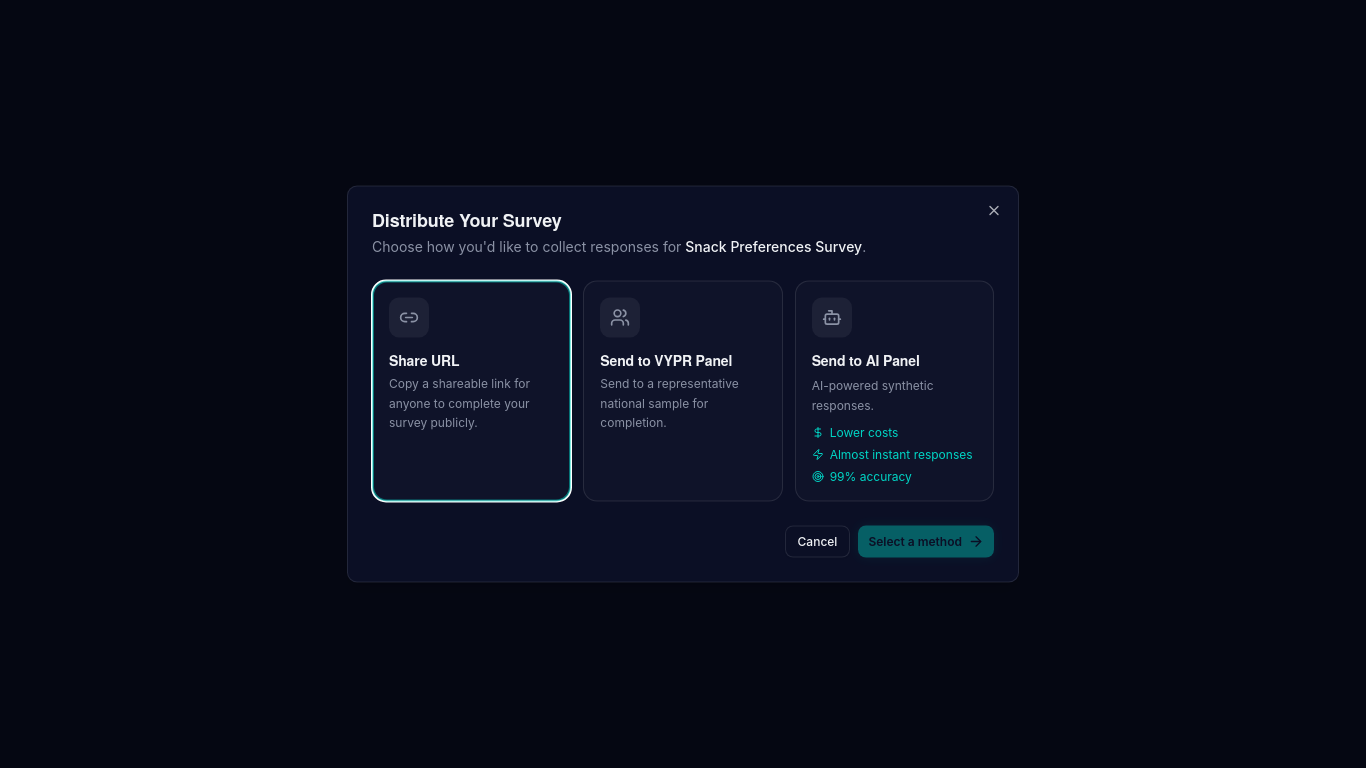
Test: PanelDistributionDialog › publishing flow - URL › shows success view with survey URL after URL publish
The width and height of the screenshot is (1366, 768).
Click the heading "Share URL" at (424, 360), box [389,350,459,370]
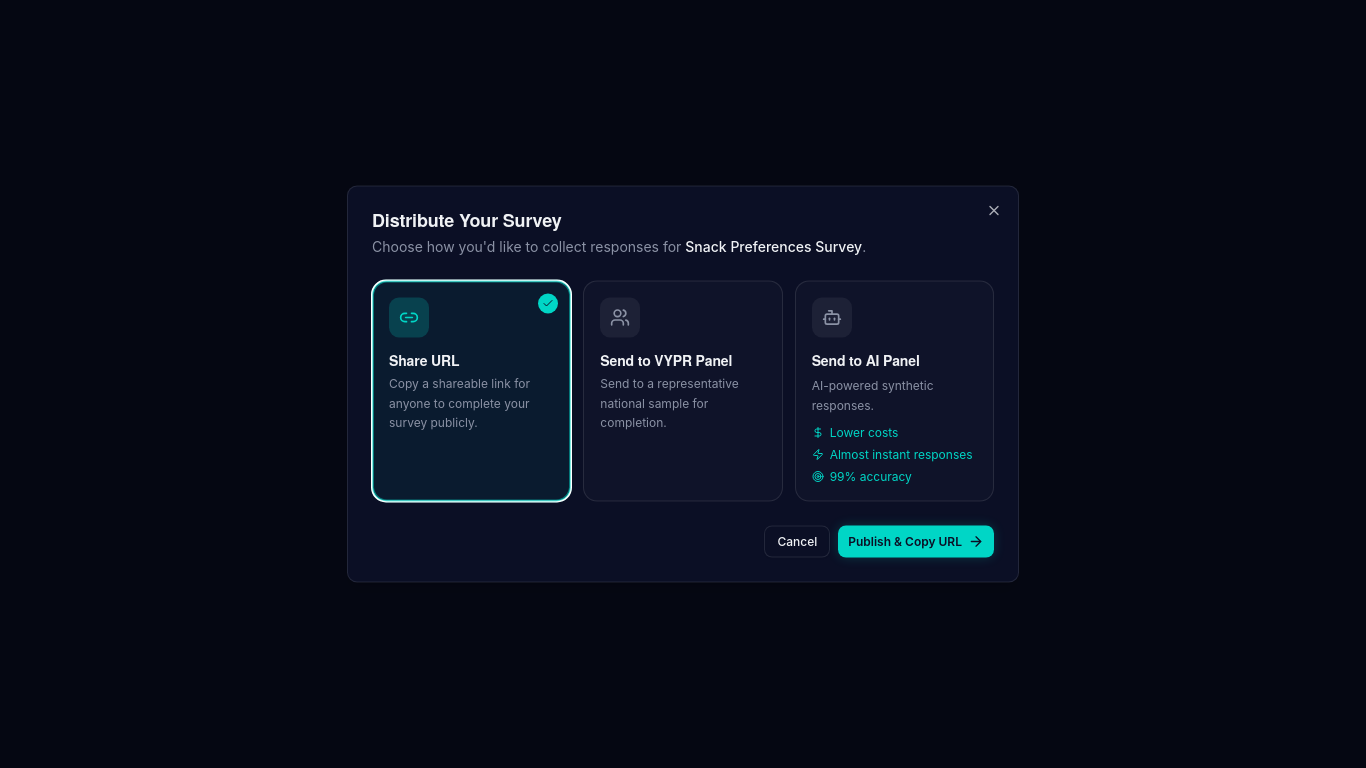
Click the button "Publish & Copy URL" at (916, 542), box [838,526,994,558]
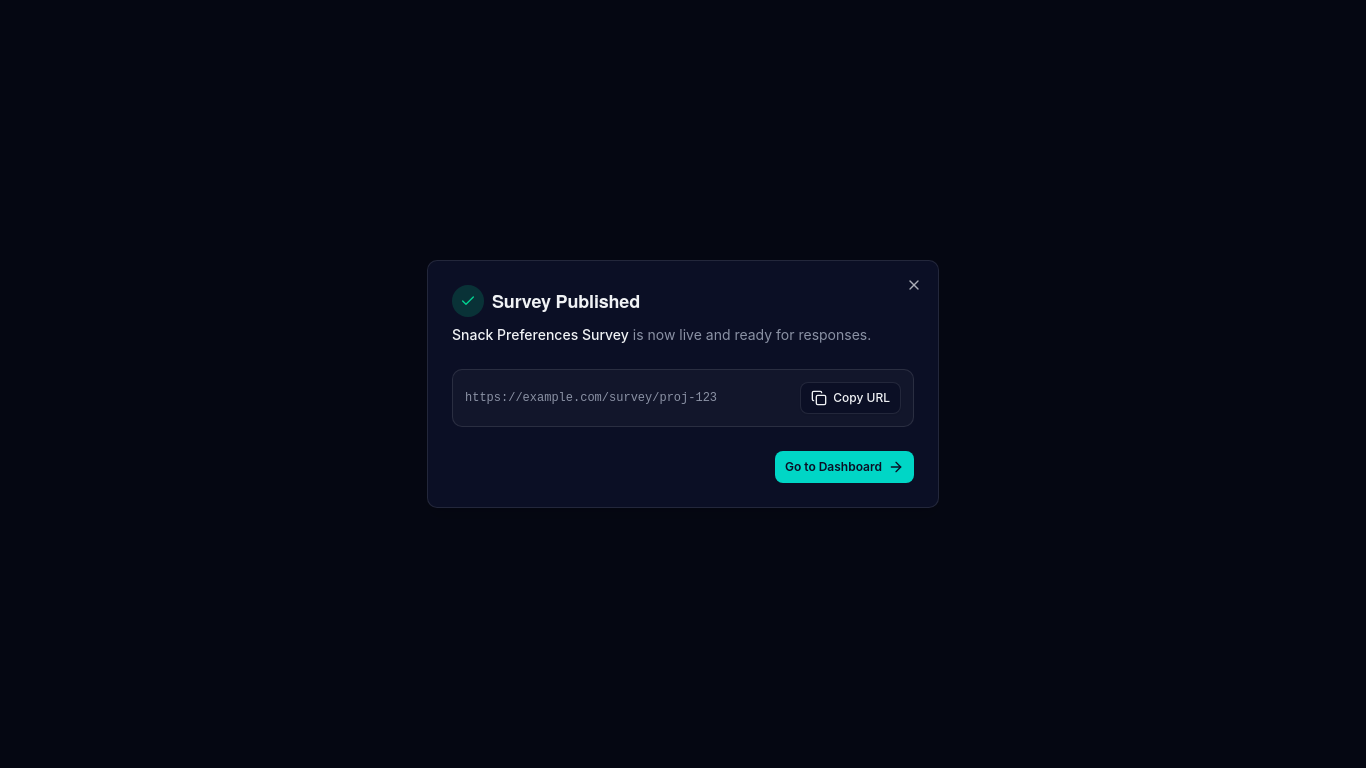
expect the heading "Survey Published" is shown: met, box [452,285,640,317]
